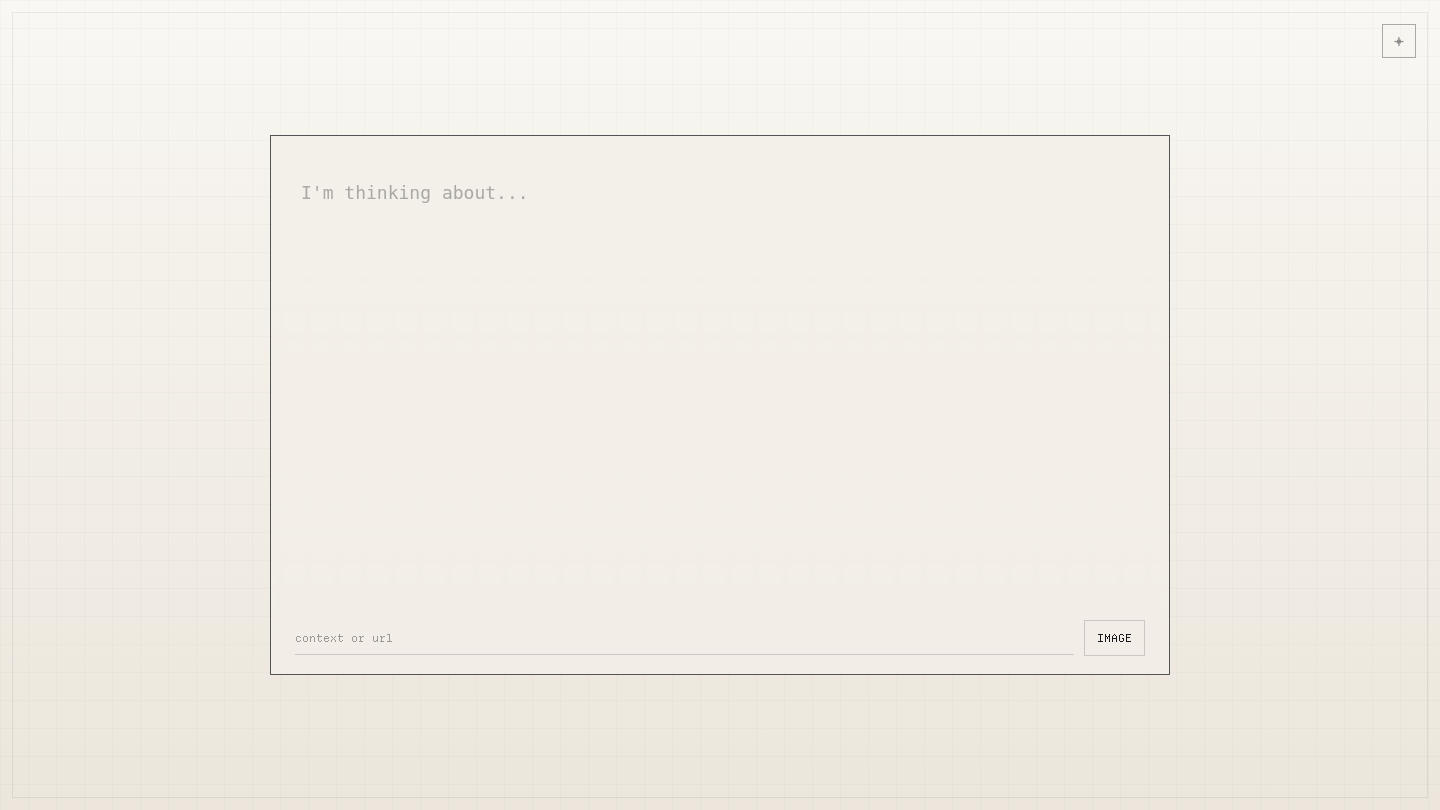
Test: selecting notes highlights related graph nodes and edges in the left view
Press ArrowLeft
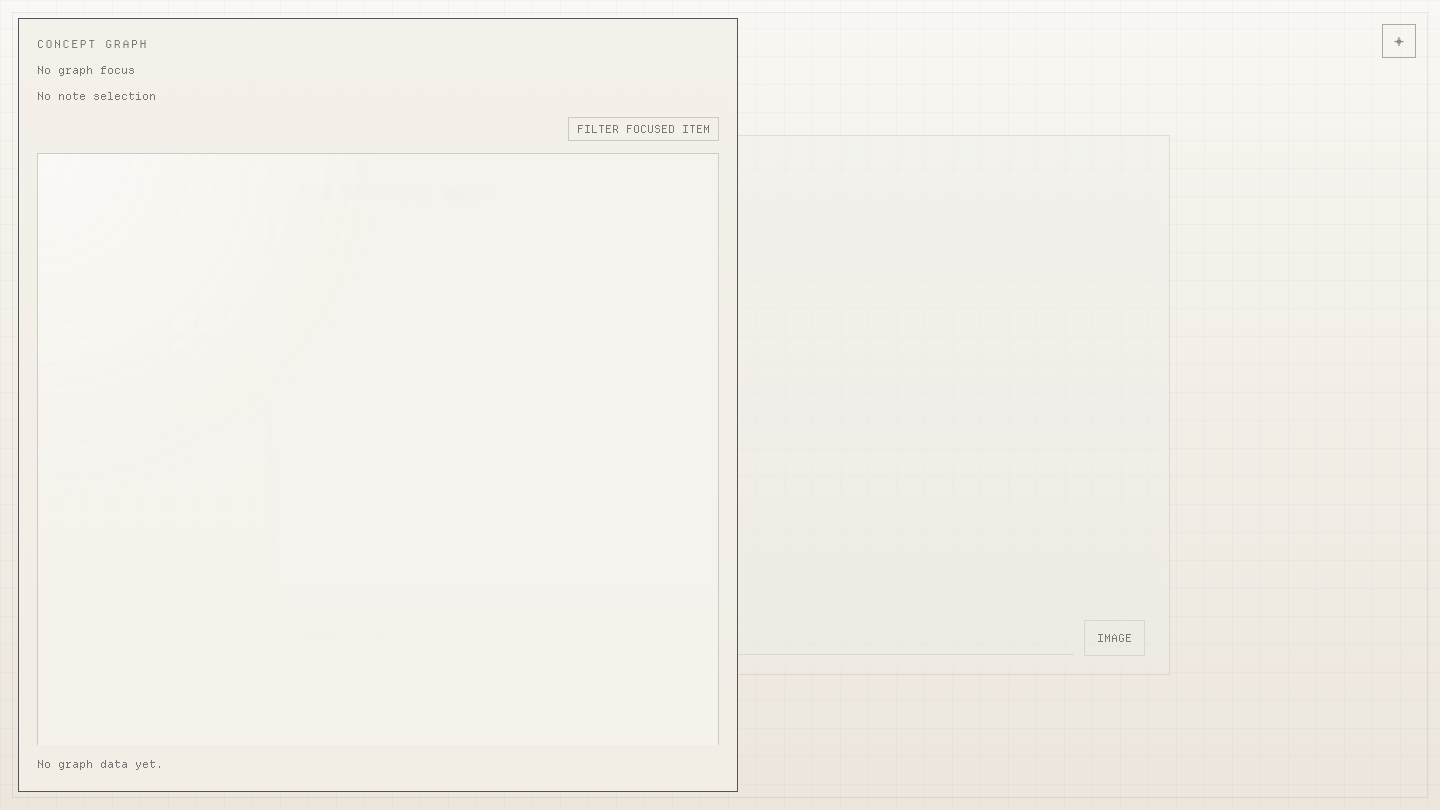
Now the text "No note selection" is shown, box x1=37 y1=89 x2=156 y2=103
Press ArrowDown
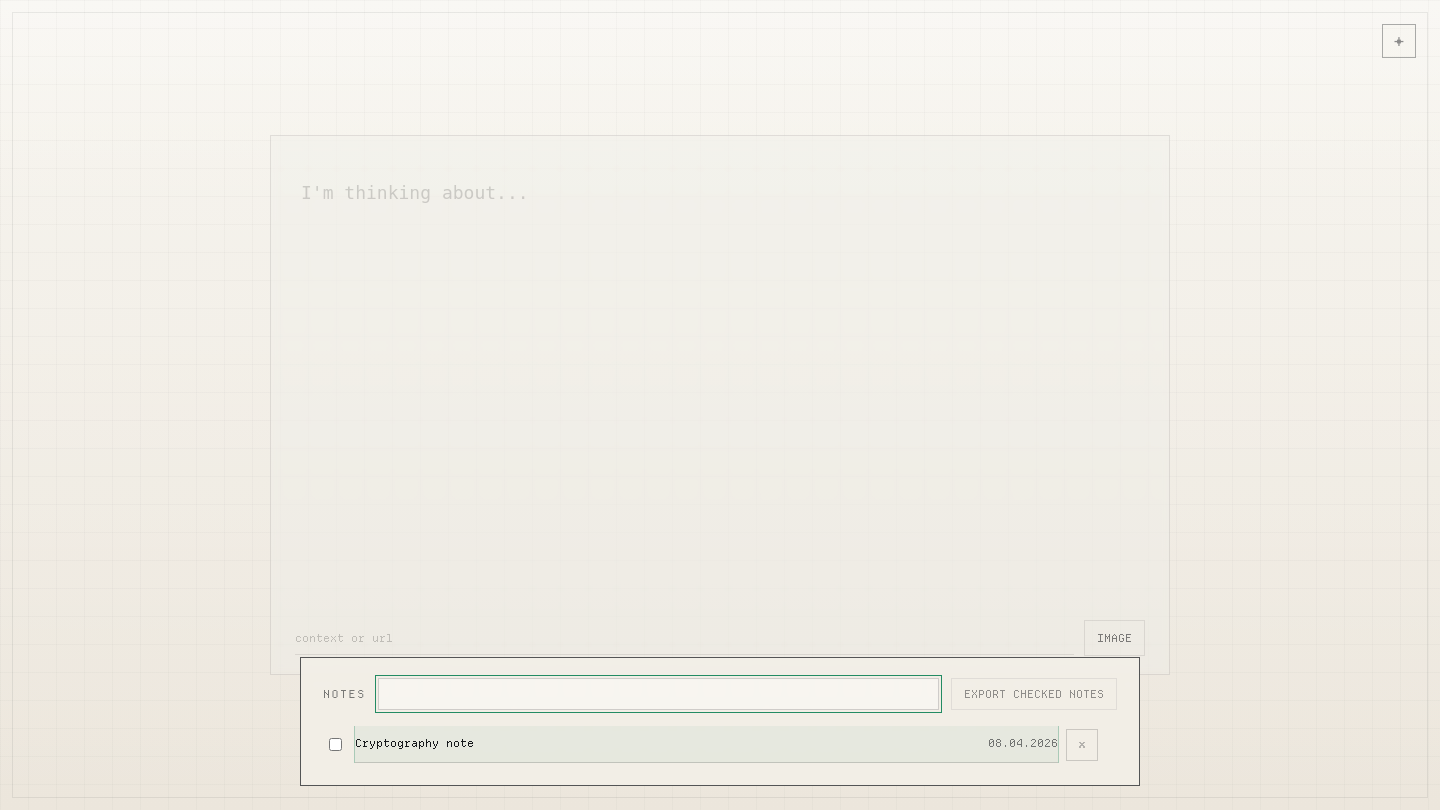
Click the checkbox named "Select Cryptography note" at (335, 744), box x1=328 y1=738 x2=342 y2=751
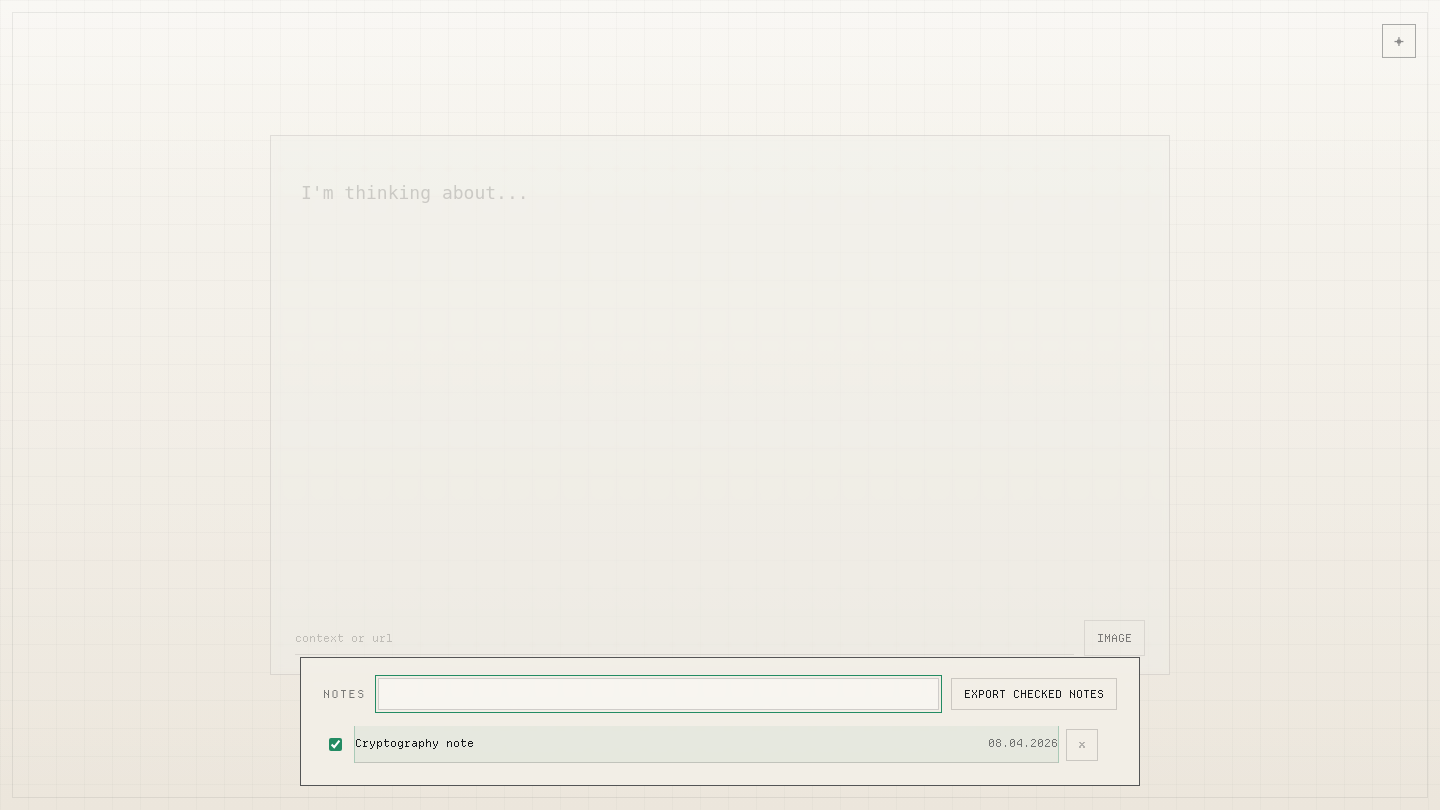
Press ArrowLeft
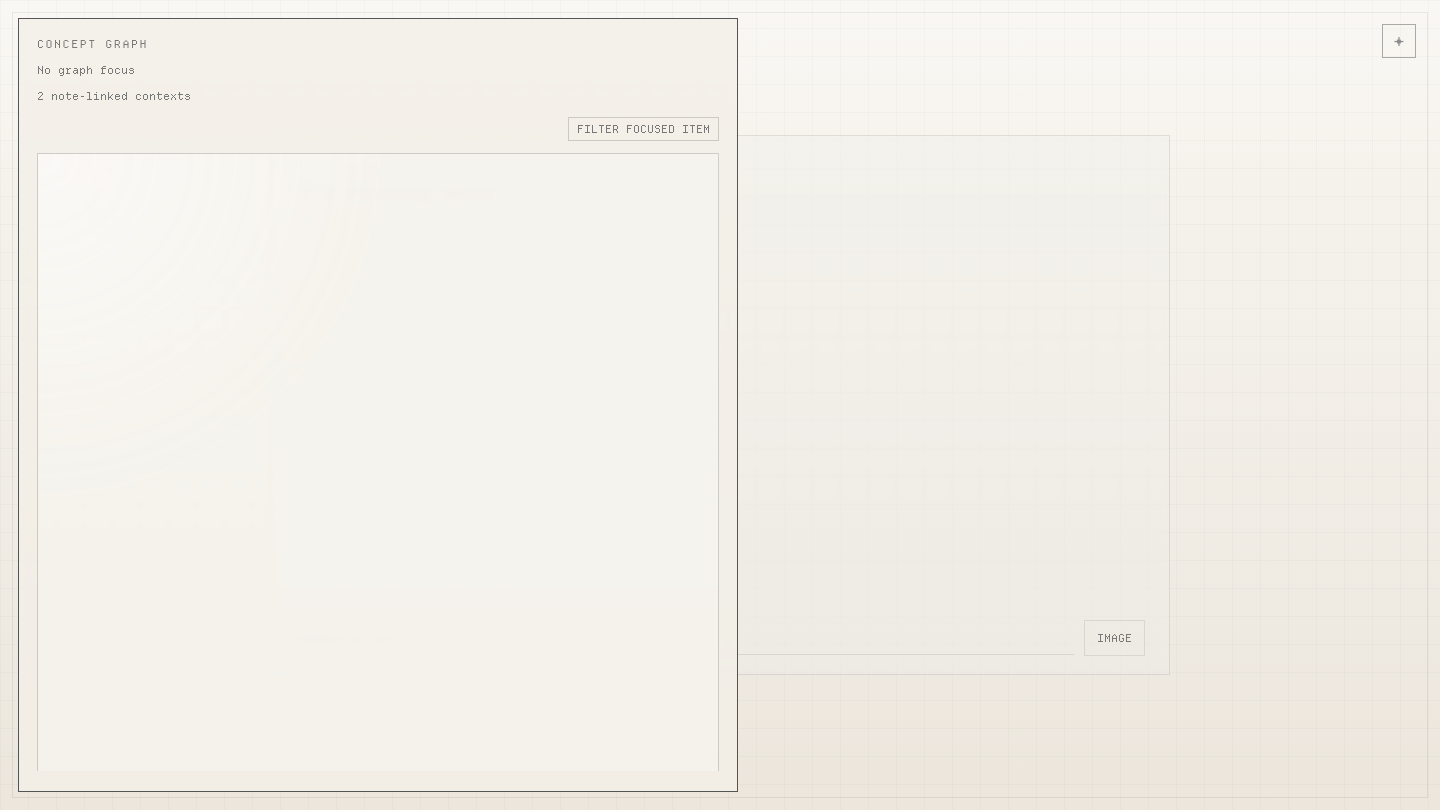
Now the text "2 note-linked contexts" is shown, box x1=37 y1=89 x2=191 y2=103
